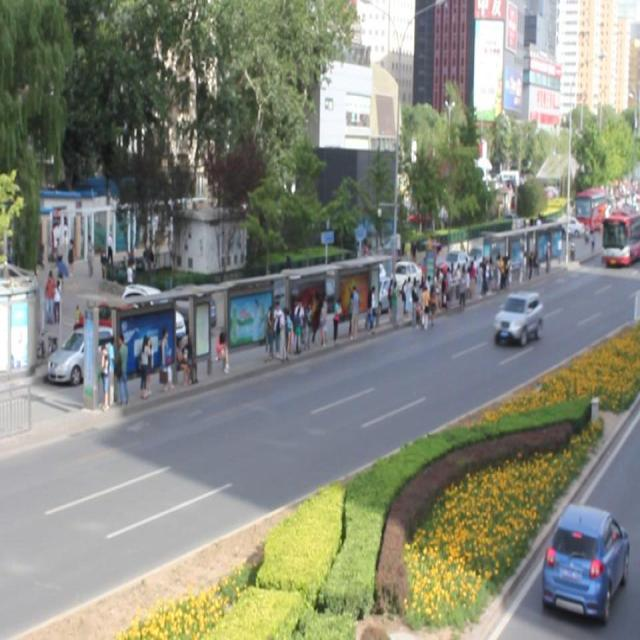car: (493, 290, 542, 345)
